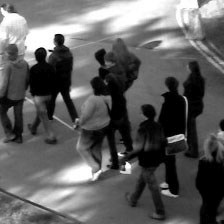person: (94, 47, 131, 170), (127, 103, 166, 219), (160, 74, 187, 197), (78, 76, 108, 181), (49, 32, 79, 129), (28, 44, 56, 144), (1, 43, 26, 145), (198, 132, 224, 224), (183, 60, 205, 161), (1, 2, 27, 62), (112, 37, 141, 84), (104, 52, 126, 92)
